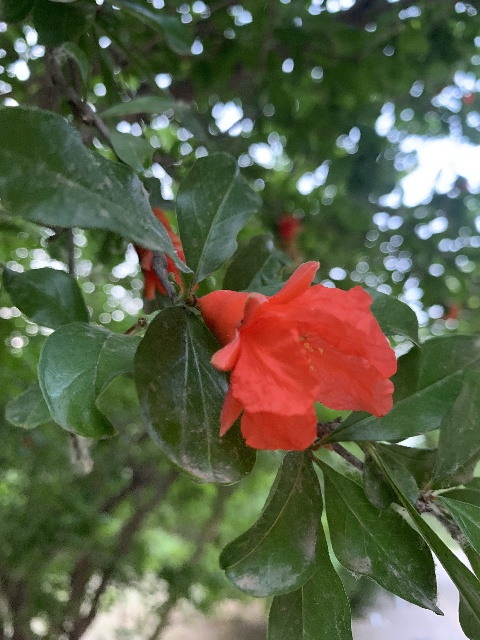flower: (197, 260, 397, 450), (133, 206, 185, 301)
